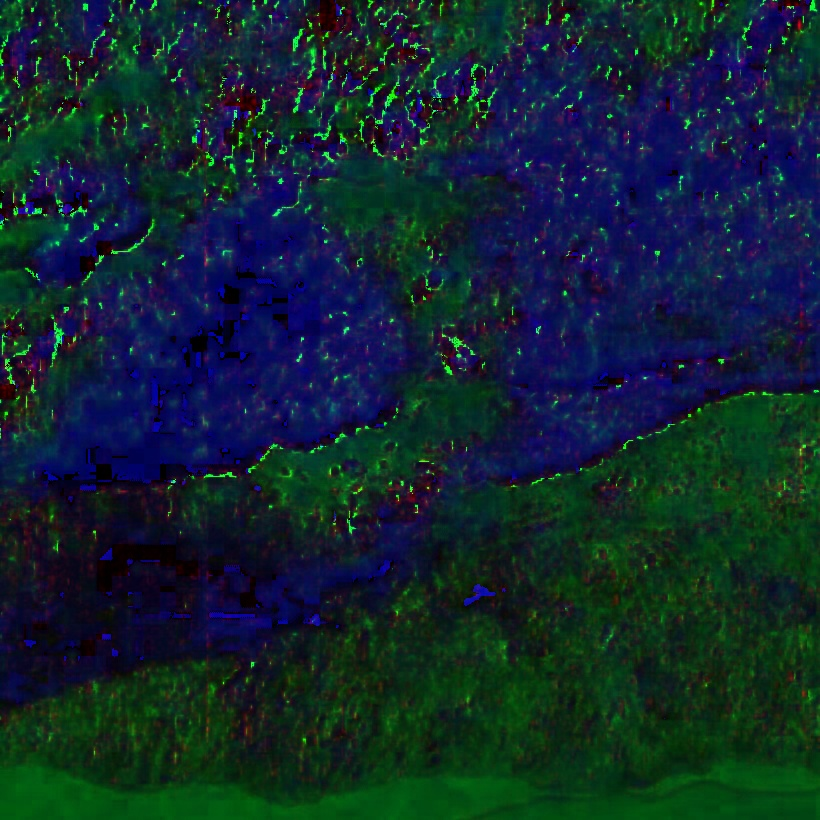rip_current: (262, 55, 565, 575)
